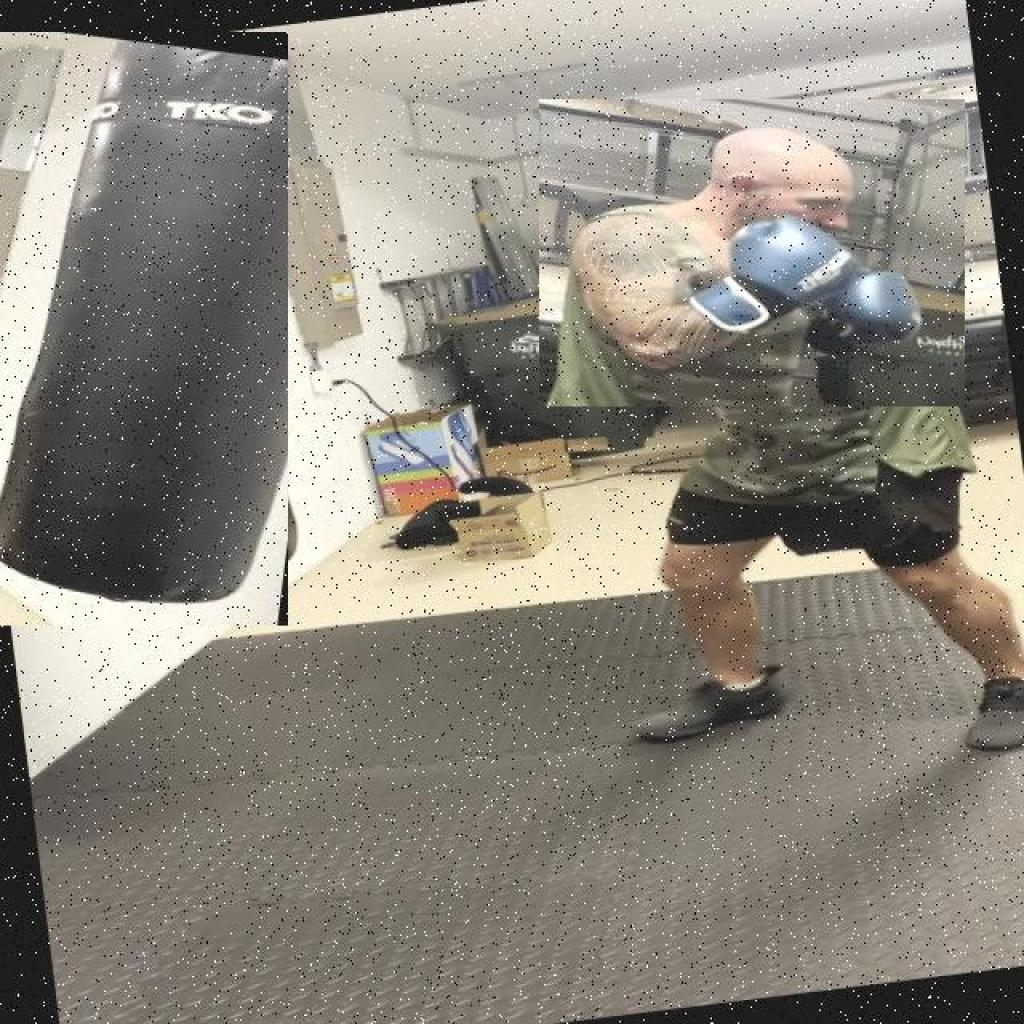bag: (0, 32, 288, 626)
no punch: (539, 99, 965, 407)
